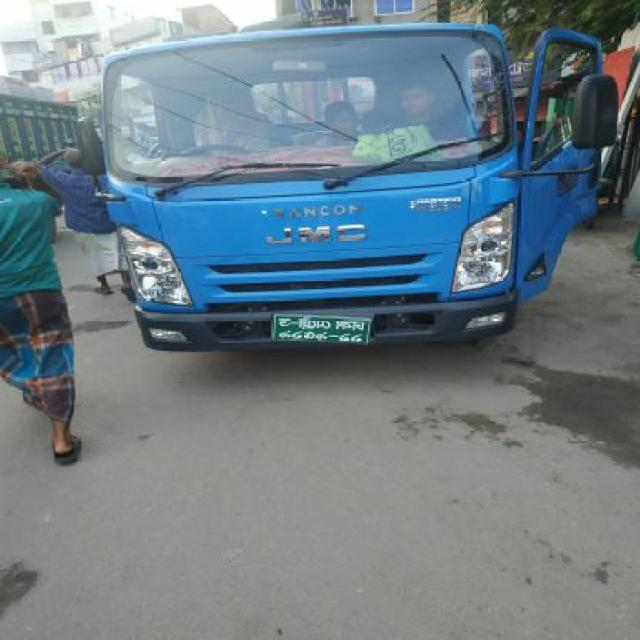numberplate: (271, 312, 374, 345)
